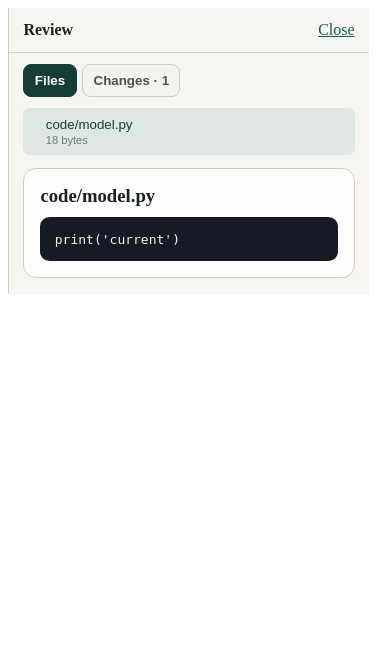
Test: capability-driven review rail › keeps stale apply disabled while allowing the whole proposal to be rejected
Click the button "Changes · 1". click: (131, 80)
box: [82,64,180,97]
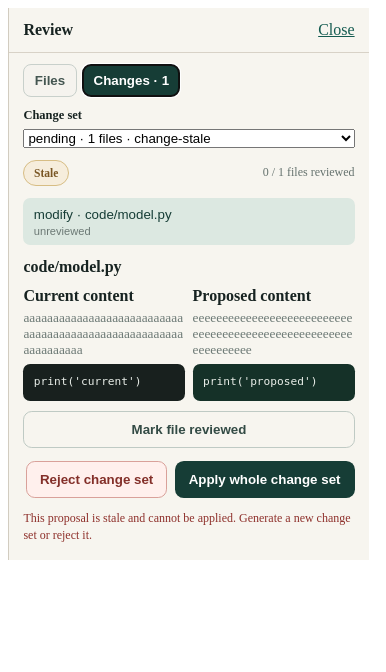
Expected: the button "Apply whole change set" is disabled, [175,461,355,498]
Click the button "Reject change set". click: (97, 479)
box: [26,461,167,498]
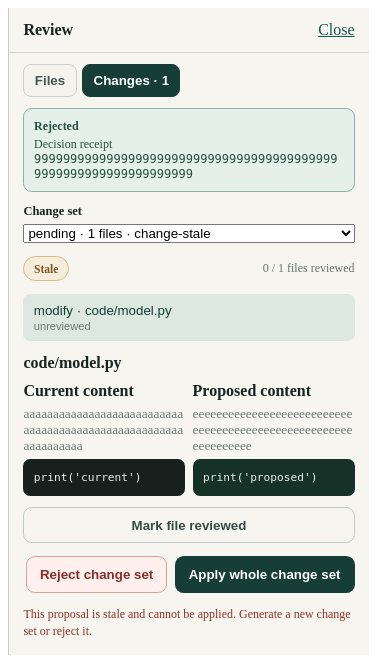
Expected: the text "Rejected" is shown, [34,119,79,133]
